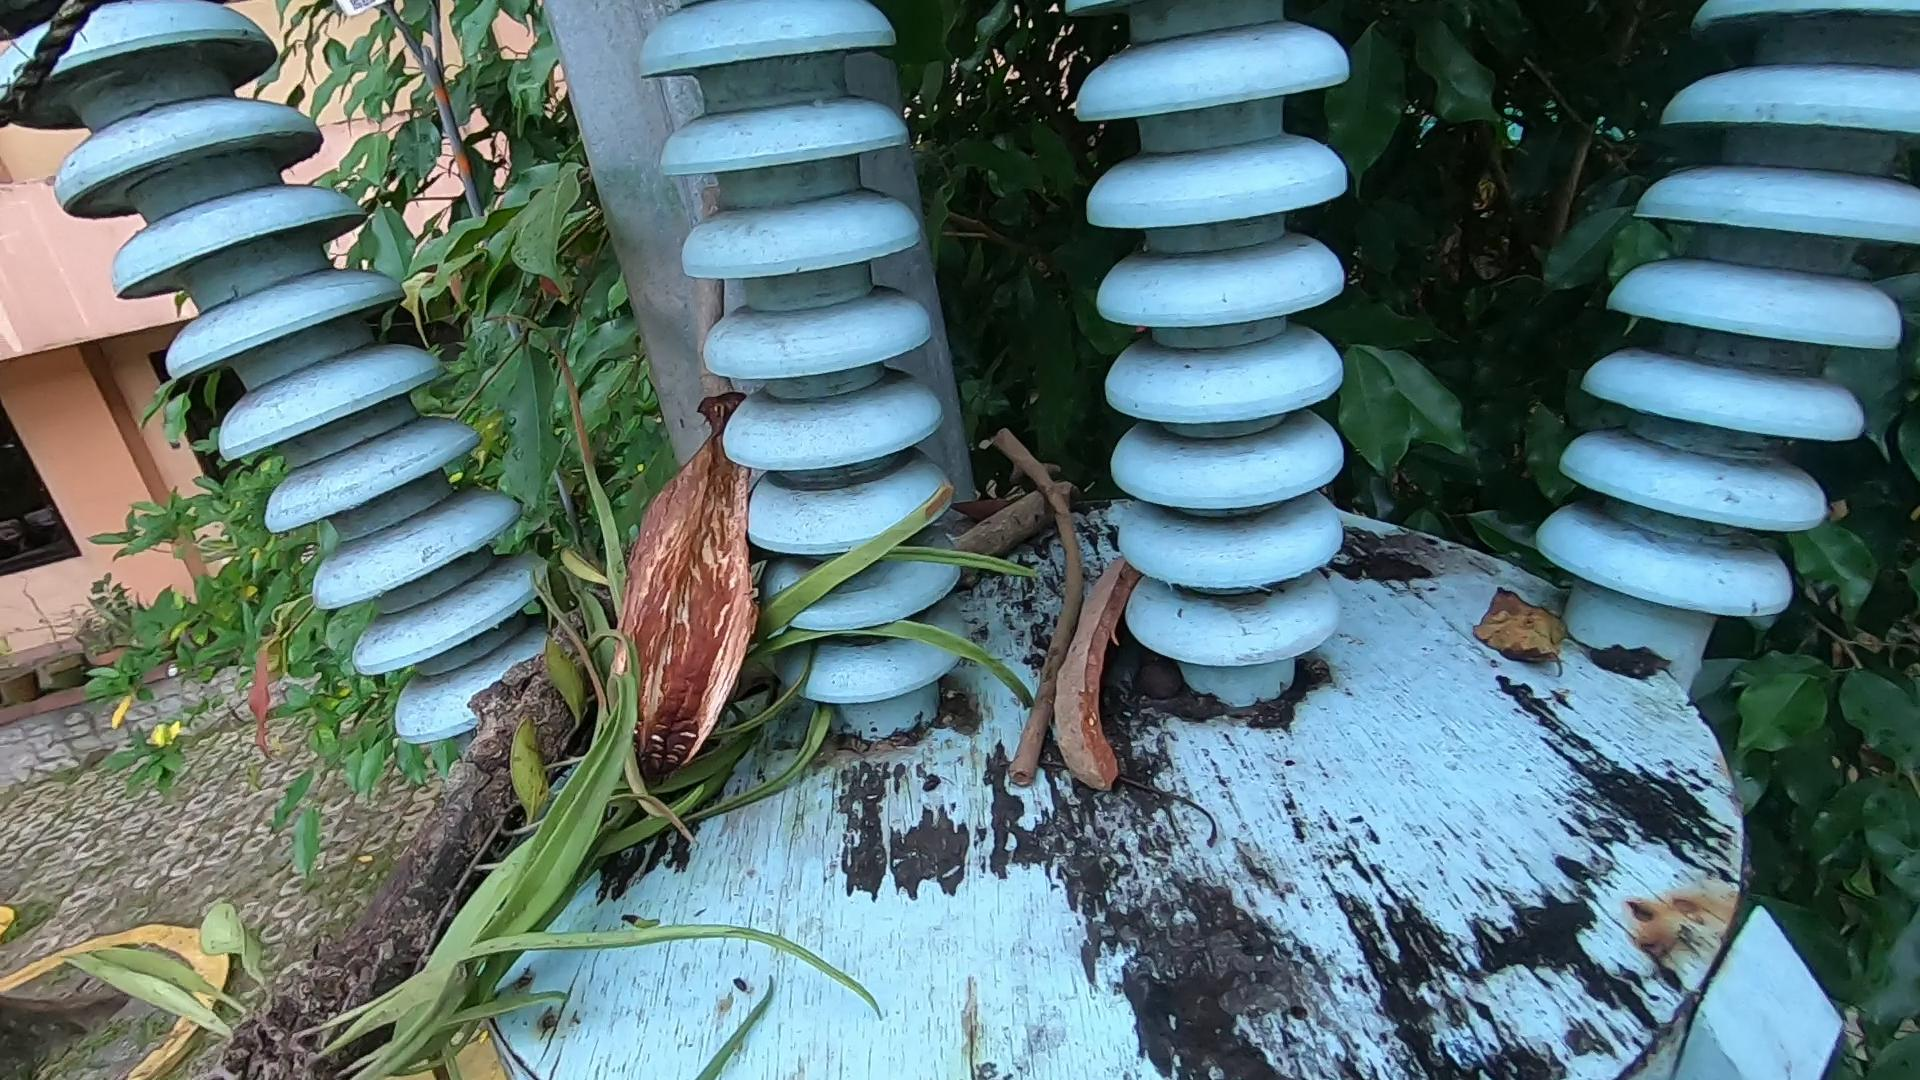branch with leaves: (69, 355, 1031, 1080)
leaf: (1480, 571, 1572, 676)
mahogany fruit: (615, 429, 785, 782), (1065, 556, 1199, 905)
tree branch: (992, 400, 1087, 790), (942, 454, 1079, 556)
